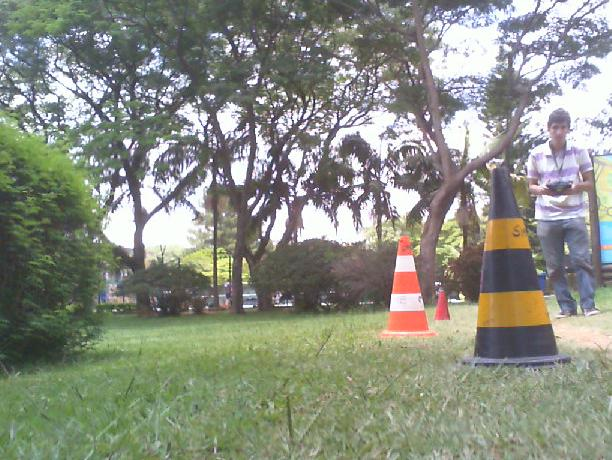0 cone: (464, 166, 570, 366), (378, 235, 434, 338), (435, 290, 451, 321)
